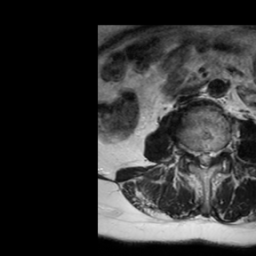CCS_normal: (201, 145, 208, 174)
LFS_stenosis: (215, 141, 222, 164)
LLS_stenosis: (208, 145, 215, 169)
RFS_stenosis: (186, 140, 194, 162)
RLS_stenosis: (194, 144, 201, 168)
